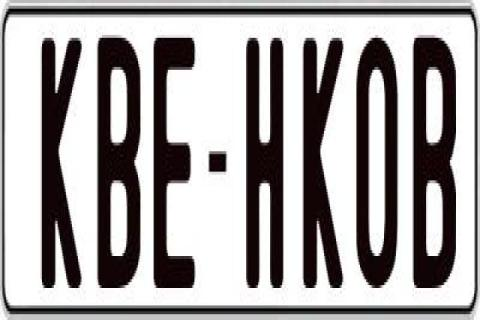0: (356, 29, 400, 291)
B: (412, 29, 462, 291), (94, 29, 140, 297)
E: (152, 38, 200, 302)
H: (246, 35, 286, 285)
K: (302, 38, 344, 297), (41, 35, 81, 303)
